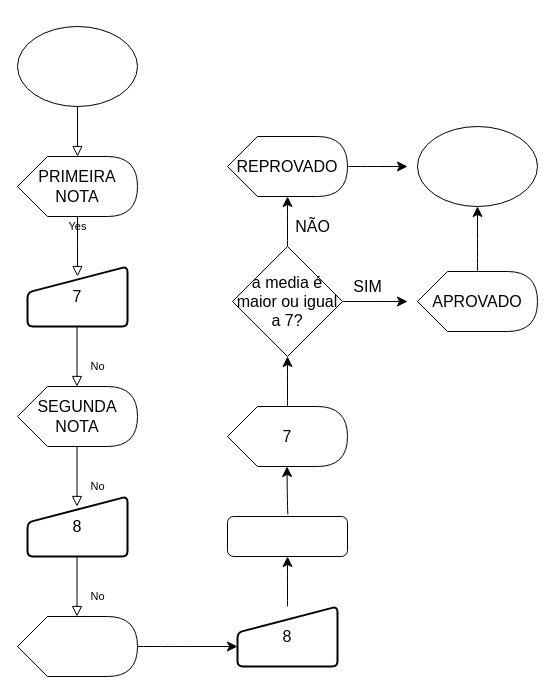
Some shapes in this 555 by 694 pixel diagram are drawn without their labels. The centre of each missing label's shape, as x and y in pixels:
"FIM" goes at [477,166].
"INICIO" goes at [77,66].
"MEDIA = (7+8+8)/3" goes at [287,536].
"TERCEIRA NOTA NOTA" goes at [77,646].
